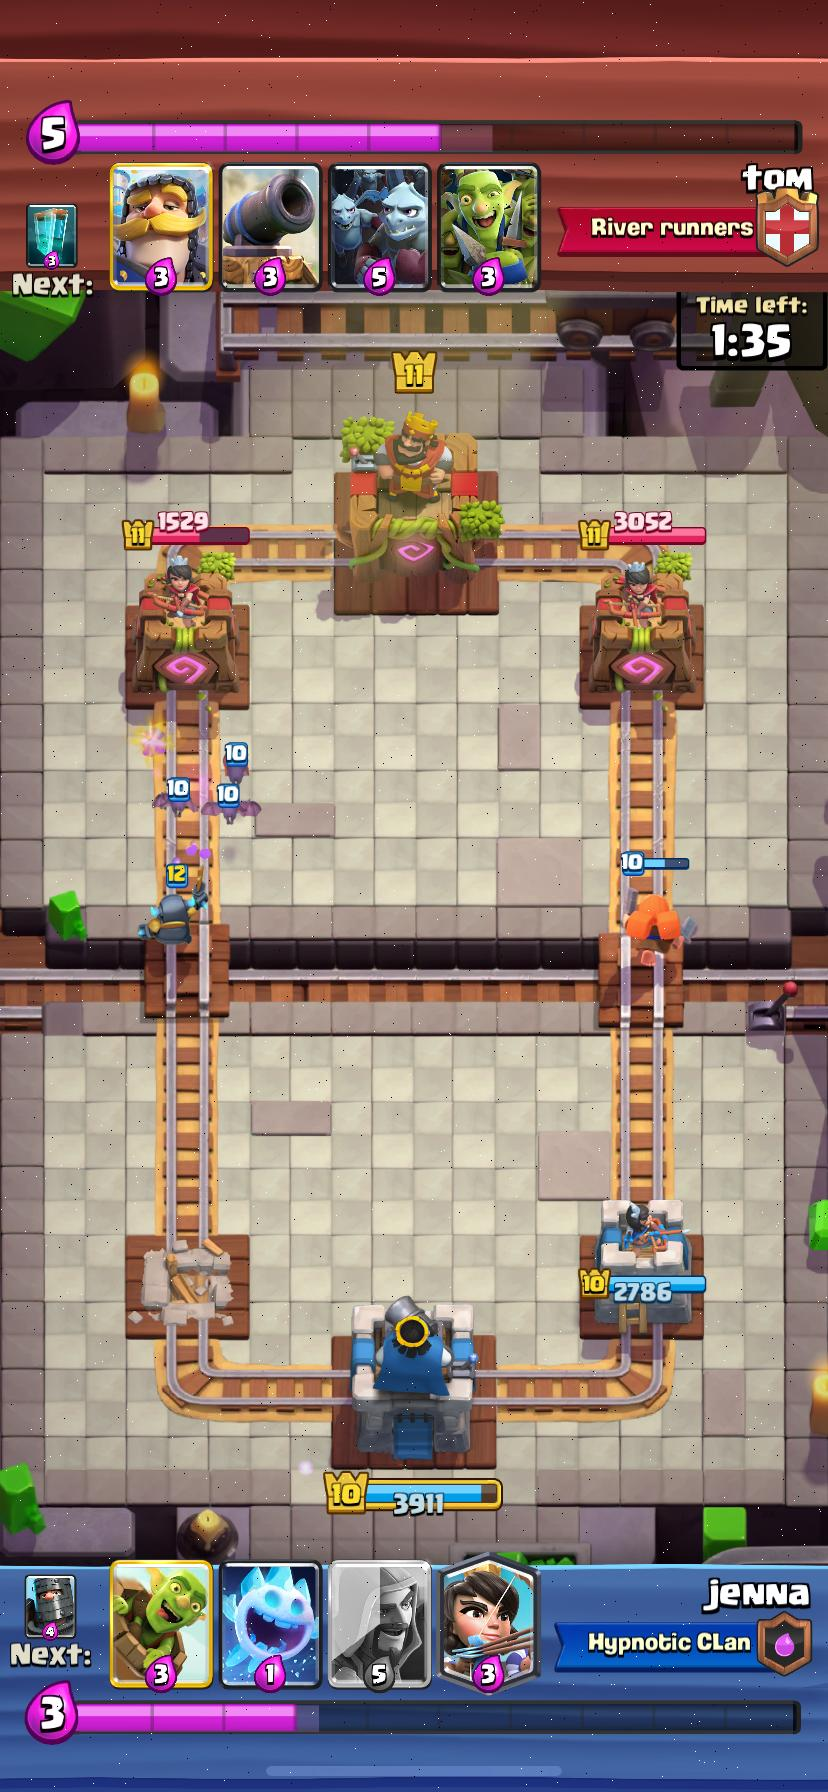EKingTower: (334, 411, 502, 581)
EnemyPrincessTower: (134, 546, 239, 695), (587, 555, 695, 694)
OBat: (200, 779, 260, 823), (153, 777, 197, 816), (224, 741, 248, 783)
OBeserker: (624, 893, 682, 965)
OMiniPekka: (150, 888, 206, 943)
OwnKingTower: (350, 1296, 477, 1461)
OwnPrincessTower: (580, 1200, 704, 1331)
TowerDown: (128, 1235, 250, 1341)
